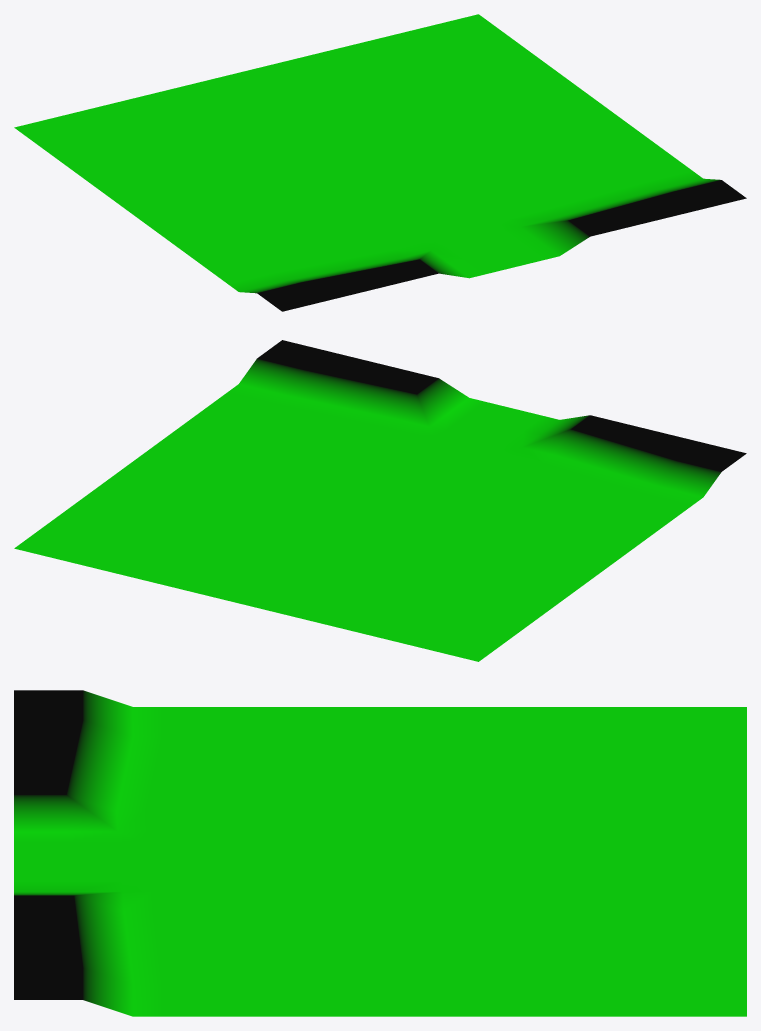
The model's file is SM_Ground_8m_SquarePathway.FBX.
3 renders of one model, top to bottom at view 1: azimuth 30°, elevation 25°; view 2: azimuth 150°, elevation 25°; view 3: azimuth 270°, elevation 25°, orthographic. The views are drawn at different scales.
Parts seen in each view (by area): view 1: SM_Ground_8m_SquarePathway; view 2: SM_Ground_8m_SquarePathway; view 3: SM_Ground_8m_SquarePathway.
Boxes of the visible parts, bbox=[...] form: SM_Ground_8m_SquarePathway: bbox=[14, 14, 746, 311]; SM_Ground_8m_SquarePathway: bbox=[14, 340, 746, 661]; SM_Ground_8m_SquarePathway: bbox=[14, 690, 746, 1016].
Size of the model in its own units: 800 by 800 by 20.
